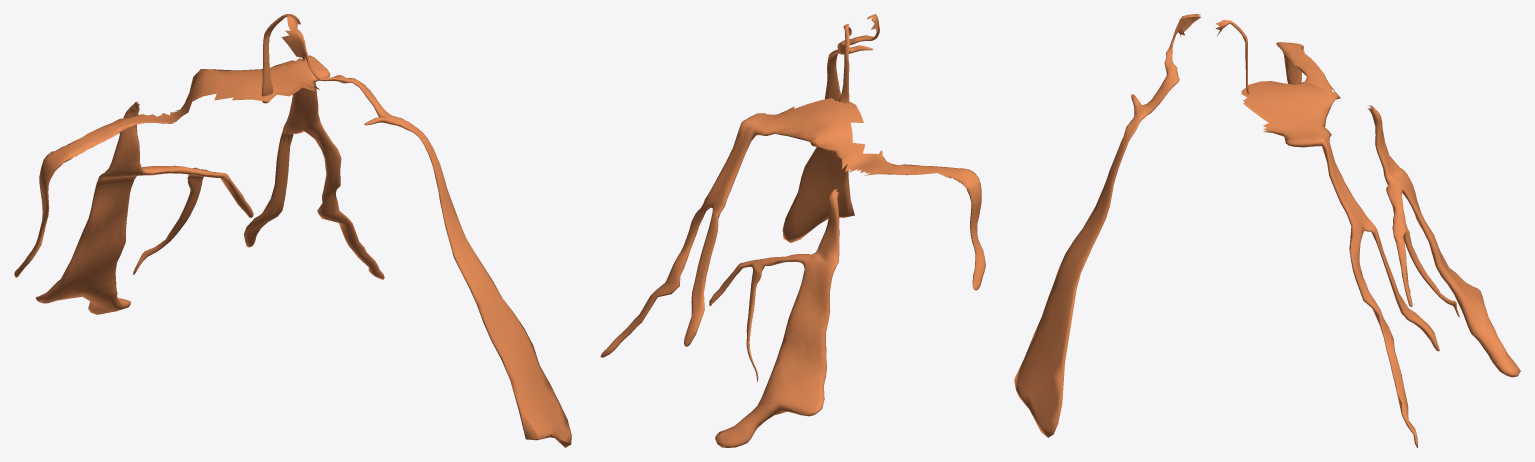
Rendered from LavaOnly.fbx.
The picture shows the model from 3 angles, left to right: view 1: azimuth 30°, elevation 25°; view 2: azimuth 150°, elevation 25°; view 3: azimuth 270°, elevation 25°; orthographic projection. The views are drawn at different scales.
Visible parts, largest first — view 1: Lava; view 2: Lava; view 3: Lava.
Part boxes in pixels (box(x1,y1,x2,y2)): Lava: box(14, 14, 571, 447); Lava: box(600, 14, 985, 447); Lava: box(1014, 14, 1520, 447).
Bounding box in the file's own units: 4539 × 4235 × 5408.
